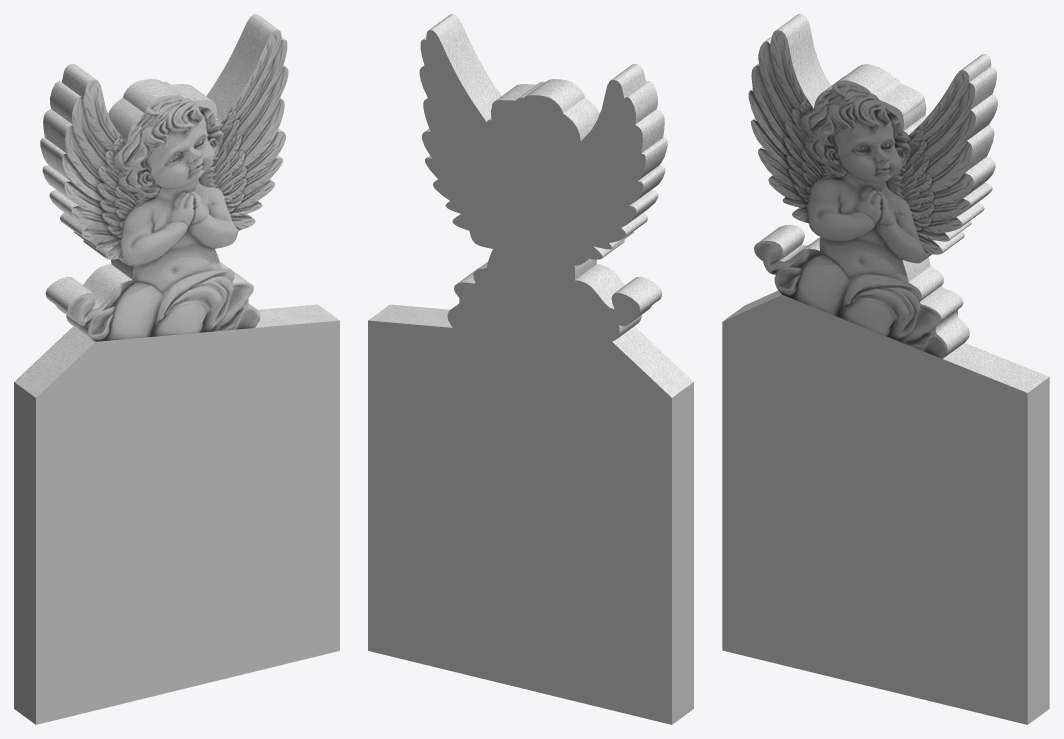
Rendered from cnfadbe8d14a_tkf.glb.
The picture shows the model from 3 angles, left to right: view 1: azimuth 30°, elevation 25°; view 2: azimuth 150°, elevation 25°; view 3: azimuth 330°, elevation 25°; orthographic projection.
Parts seen in each view (by area): view 1: Pam-d01-064, Pam-d01-064_2_notexture; view 2: Pam-d01-064, Pam-d01-064_2_notexture; view 3: Pam-d01-064, Pam-d01-064_2_notexture.
Boxes of the visible parts, x1=… form: Pam-d01-064: x1=14, y1=320, x2=339, y2=724; Pam-d01-064_2_notexture: x1=14, y1=14, x2=339, y2=397; Pam-d01-064: x1=368, y1=30, x2=693, y2=724; Pam-d01-064_2_notexture: x1=368, y1=14, x2=693, y2=397; Pam-d01-064: x1=722, y1=294, x2=1049, y2=724; Pam-d01-064_2_notexture: x1=723, y1=14, x2=1048, y2=392.
Size of the model in its own units: 0.4 by 0.8 by 0.05.
1 material, 1 textured.
